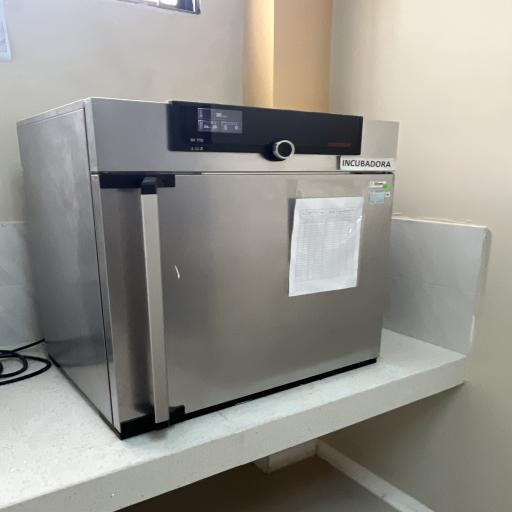Incubadora: (14, 88, 429, 450)
